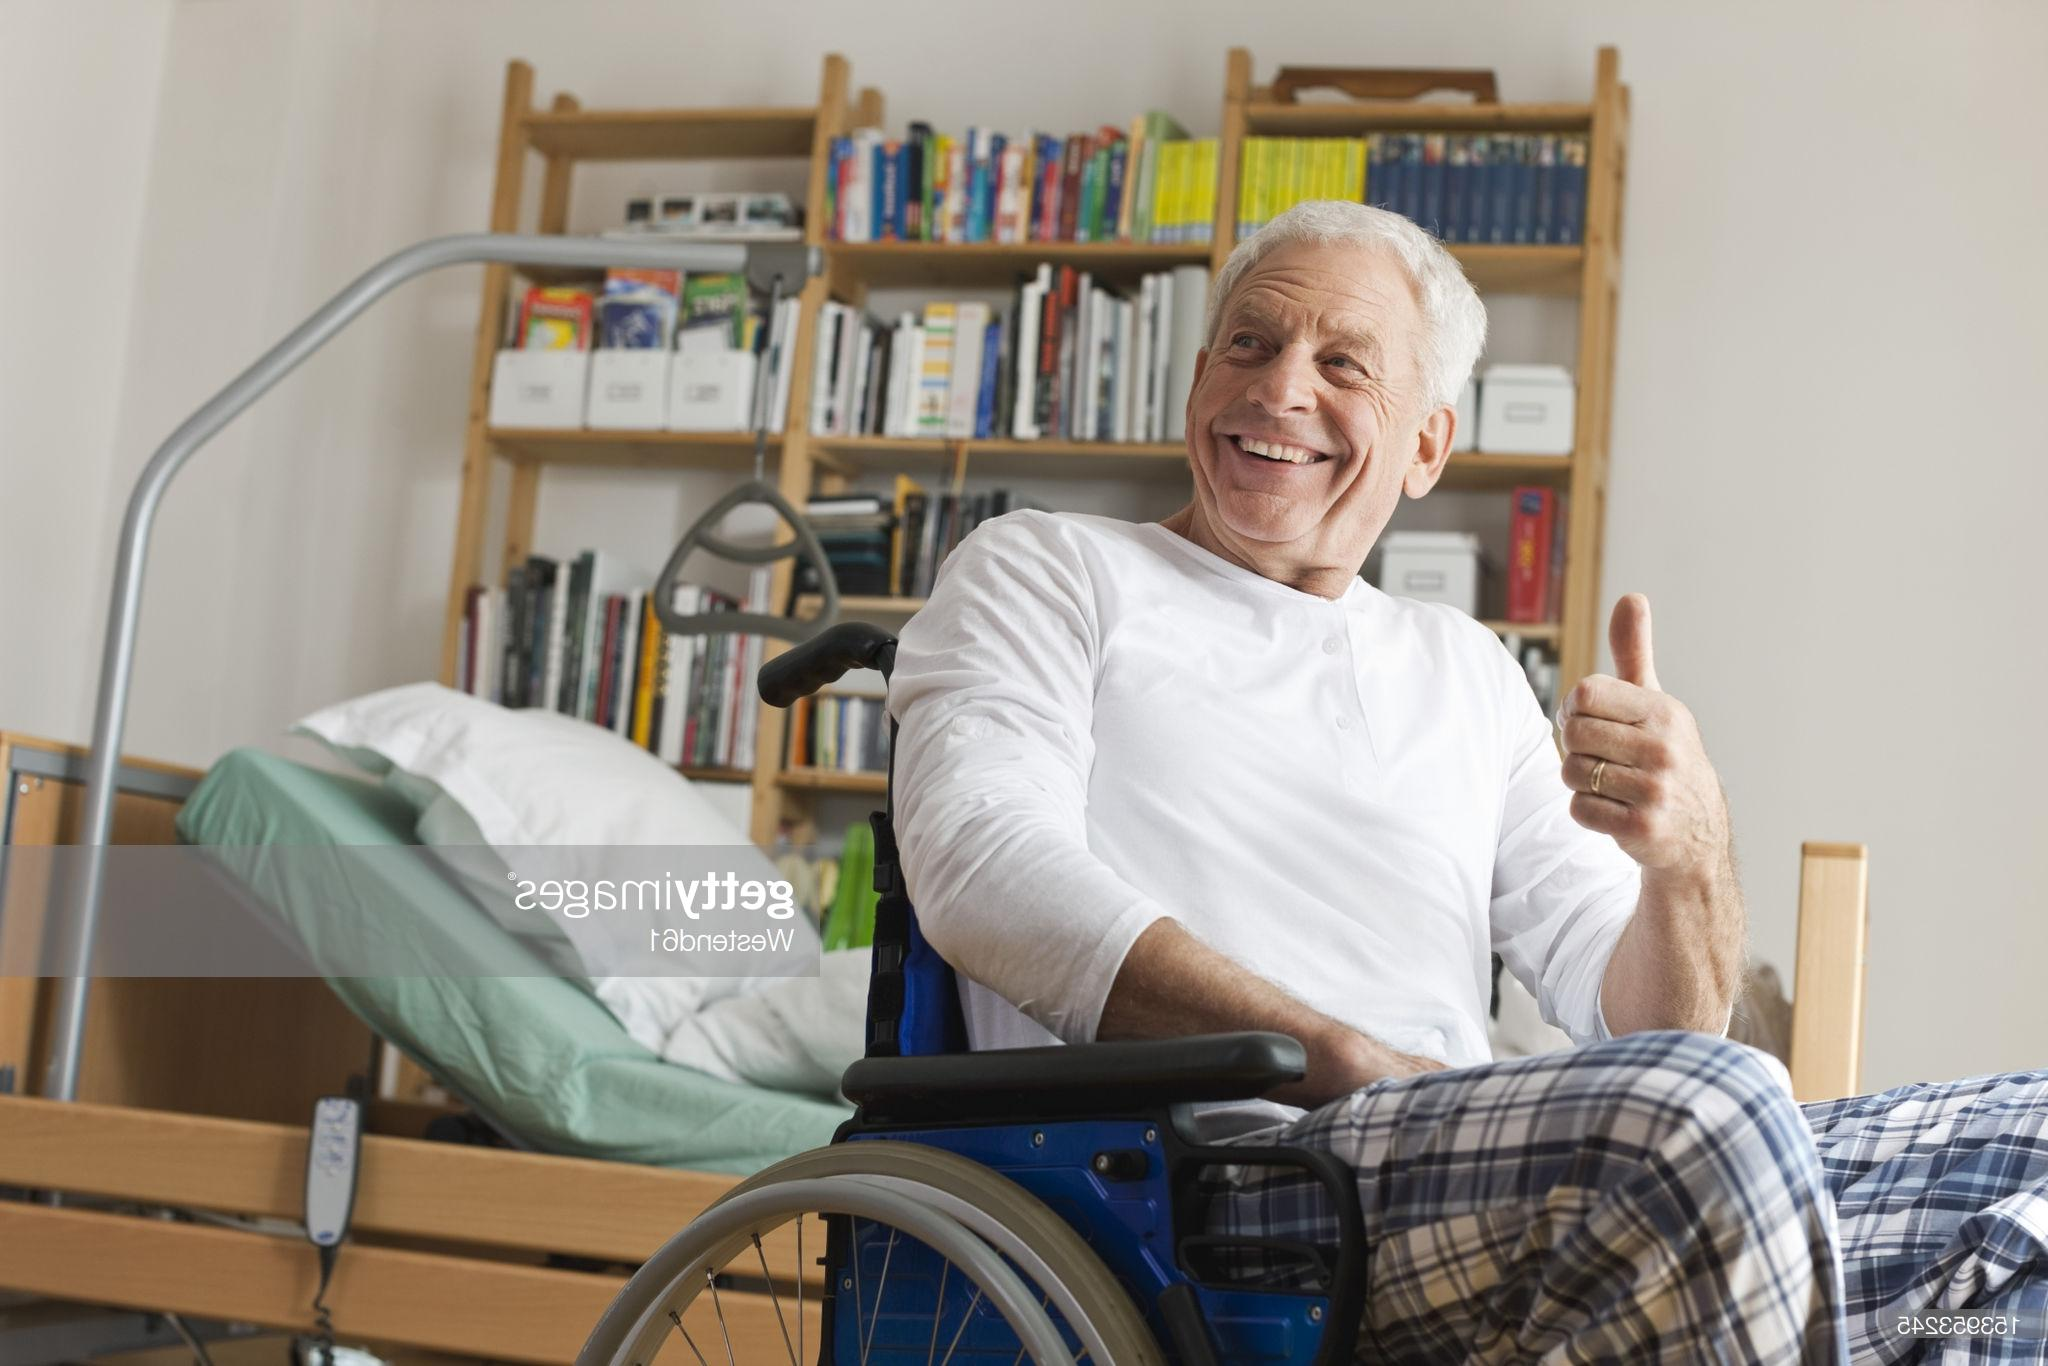thumbsup: (1557, 592, 1690, 840)
